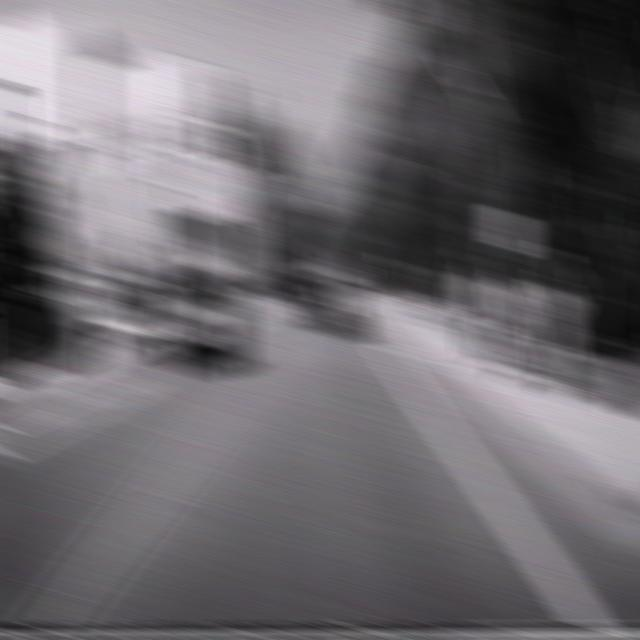speedLimit35: (492, 208, 527, 253)
